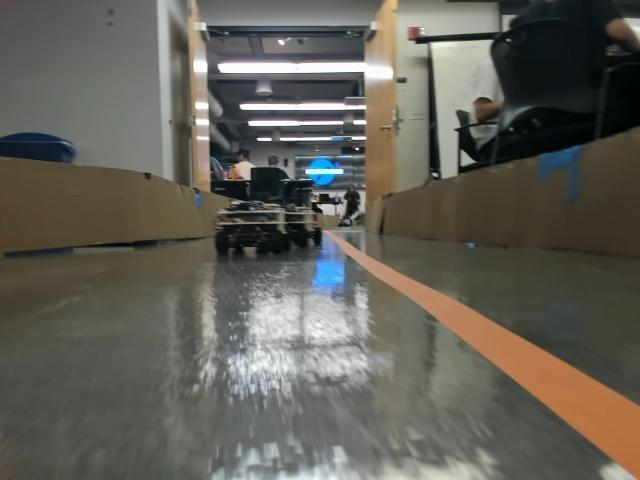Car: (212, 188, 290, 253)
